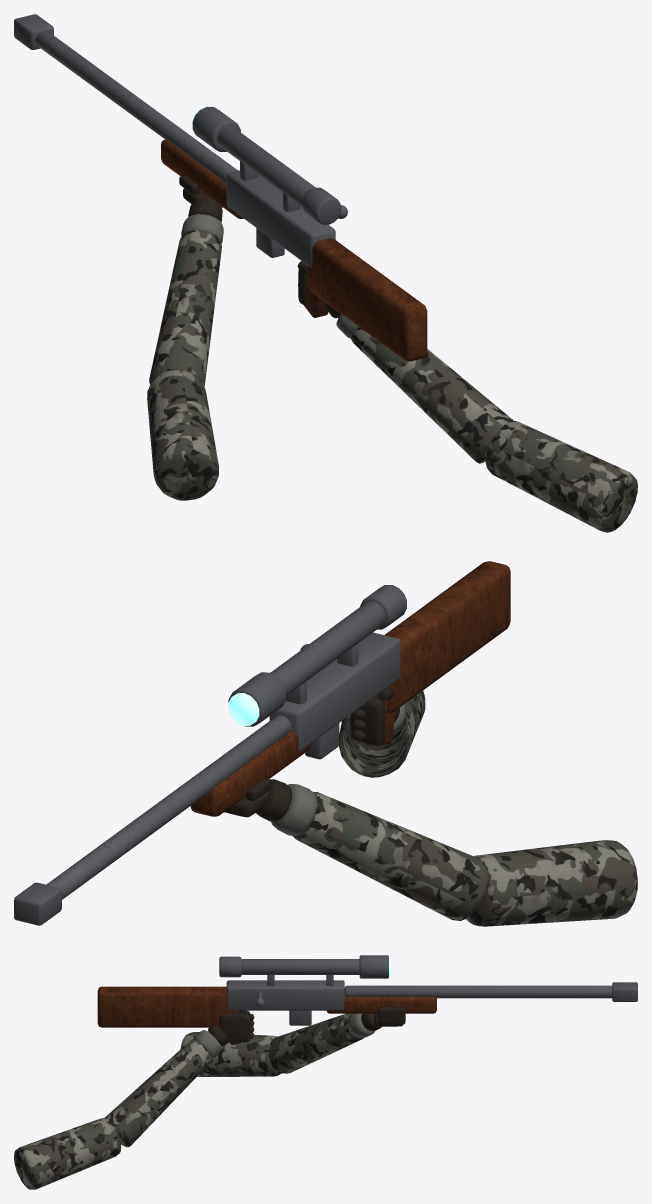
File: vm_sniper.glb
The picture shows the model from 3 angles, top to bottom: view 1: azimuth 30°, elevation 25°; view 2: azimuth 150°, elevation 25°; view 3: azimuth 270°, elevation 25°; orthographic projection. The views are drawn at different scales.
Parts seen in each view (by area): view 1: UpperArmR, Stock, UpperArmL, ForearmR, ForearmL, Receiver, Barrel, ScopeTube, Forend, ScopeBellF, ScopeBellR, MuzzleBrake (+1 smaller); view 2: UpperArmL, ForearmL, Stock, Receiver, Barrel, ScopeTube, Forend, ForearmR, MuzzleBrake, ScopeBellF, CuffL, FingersR (+6 smaller); view 3: Stock, UpperArmR, ForearmR, Barrel, Receiver, ForearmL, UpperArmL, ScopeTube, Forend, ScopeBellF, PalmR, MuzzleBrake (+5 smaller).
Part boxes in pixels (x1,y1,x2,y2): UpperArmR: (485, 420, 637, 532); Stock: (307, 238, 427, 361); UpperArmL: (147, 369, 218, 500); ForearmR: (351, 327, 513, 463); ForearmL: (149, 230, 221, 386); Receiver: (226, 170, 335, 267); Barrel: (35, 30, 238, 182); ScopeTube: (217, 126, 315, 205); Forend: (161, 139, 243, 218); ScopeBellF: (192, 107, 240, 151); ScopeBellR: (302, 187, 341, 224); MuzzleBrake: (14, 14, 53, 49); UpperArmL: (466, 840, 637, 926); ForearmL: (292, 792, 488, 920); Stock: (384, 561, 510, 713); Receiver: (269, 632, 400, 751); Barrel: (46, 715, 291, 899); ScopeTube: (270, 601, 385, 695); Forend: (190, 730, 311, 816); ForearmR: (340, 715, 407, 777); MuzzleBrake: (14, 882, 61, 925); ScopeBellF: (228, 672, 286, 726); CuffL: (271, 784, 317, 836); FingersR: (351, 696, 385, 745); Stock: (97, 986, 237, 1027); UpperArmR: (14, 1118, 121, 1189); ForearmR: (104, 1039, 212, 1147); Barrel: (344, 985, 612, 998); Receiver: (226, 980, 344, 1010); ForearmL: (268, 1013, 364, 1073); UpperArmL: (180, 1032, 281, 1076); ScopeTube: (241, 959, 359, 974); Forend: (327, 996, 436, 1013); ScopeBellF: (359, 955, 388, 978); PalmR: (219, 1012, 244, 1042); MuzzleBrake: (612, 982, 637, 1001).
Size of the model in its own units: 0.7741 by 0.5491 by 1.69.
Materials: 7 (4 with a texture image).
